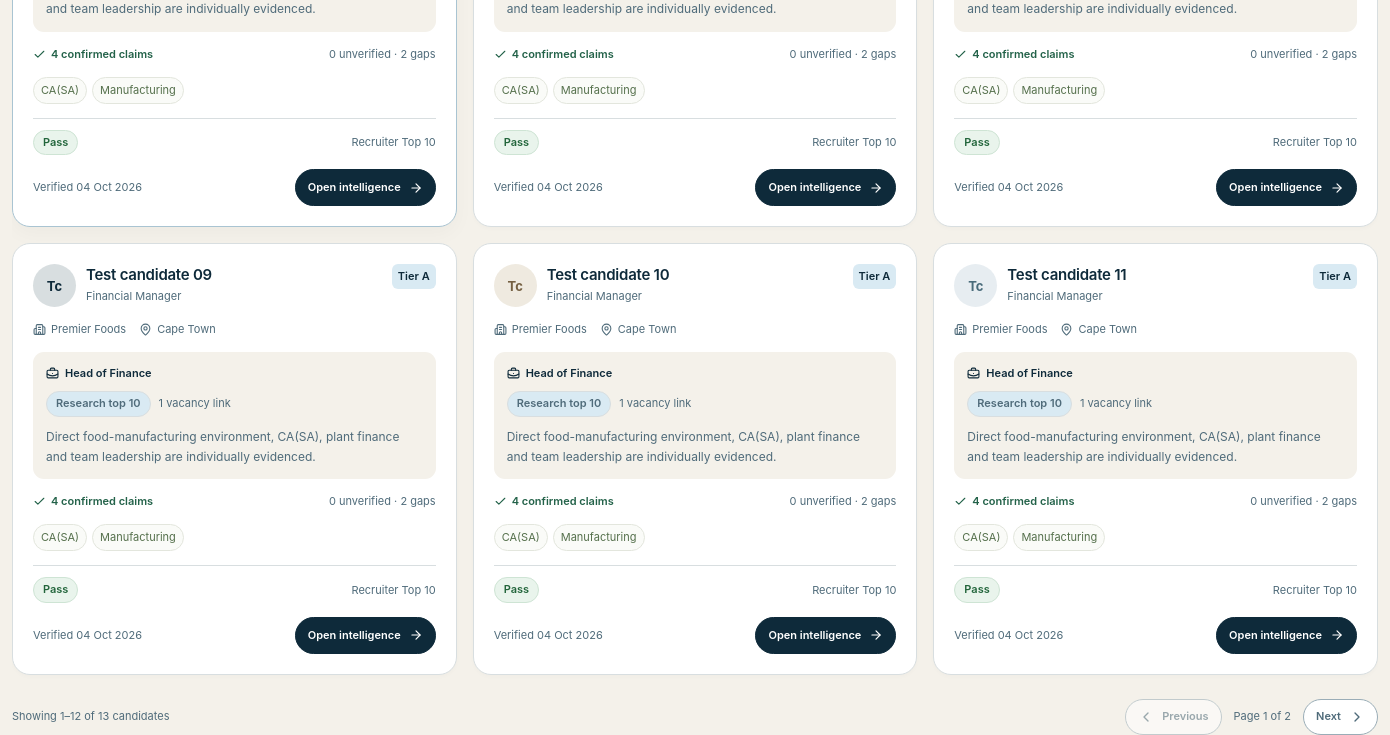
Test case: Candidate markets › paginates large markets and resets pagination after filtering
The image size is (1390, 735).
(page scrolled)
Click the button with aria-label "Next candidate page": (1340, 717) [1303,699,1378,734]
(page scrolled)
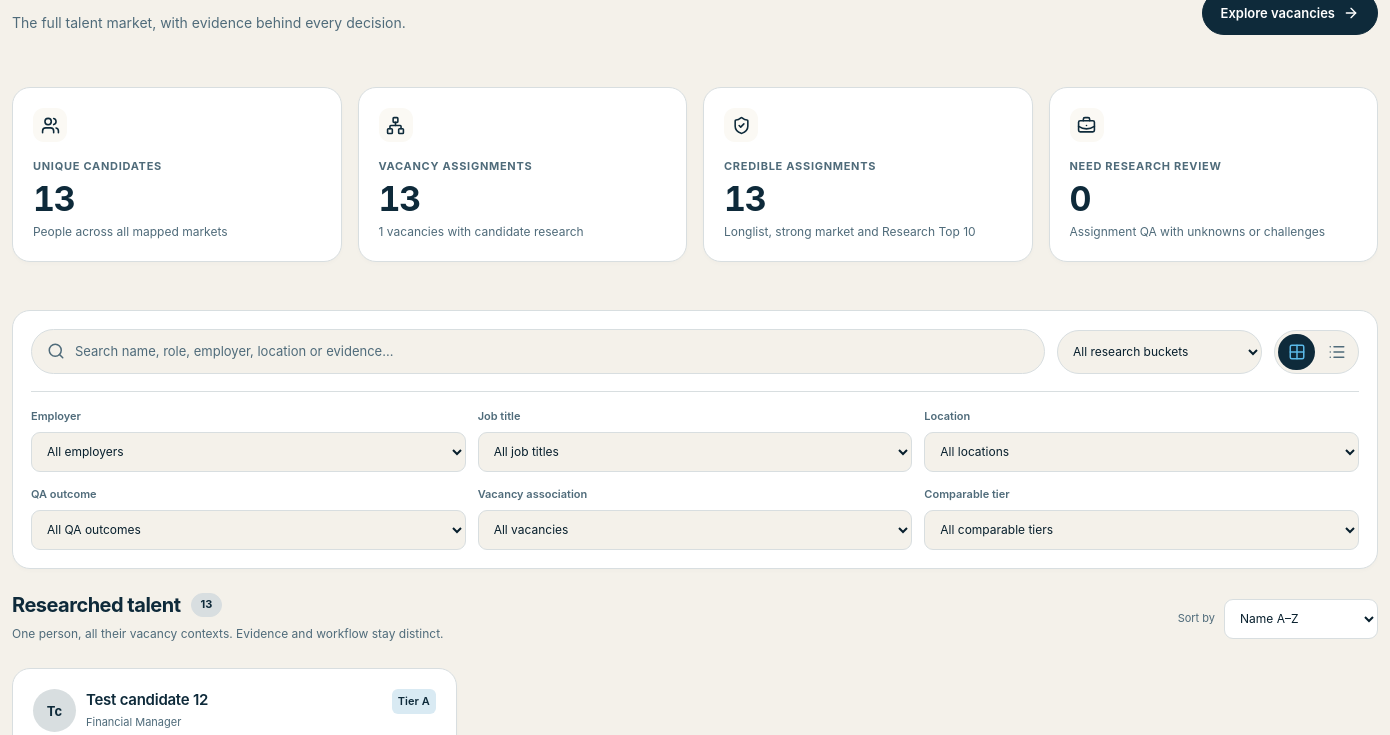
In the search field named "Search candidates": (552, 351) [75,330,1029,372], type "Test candidate 00"
(page scrolled)
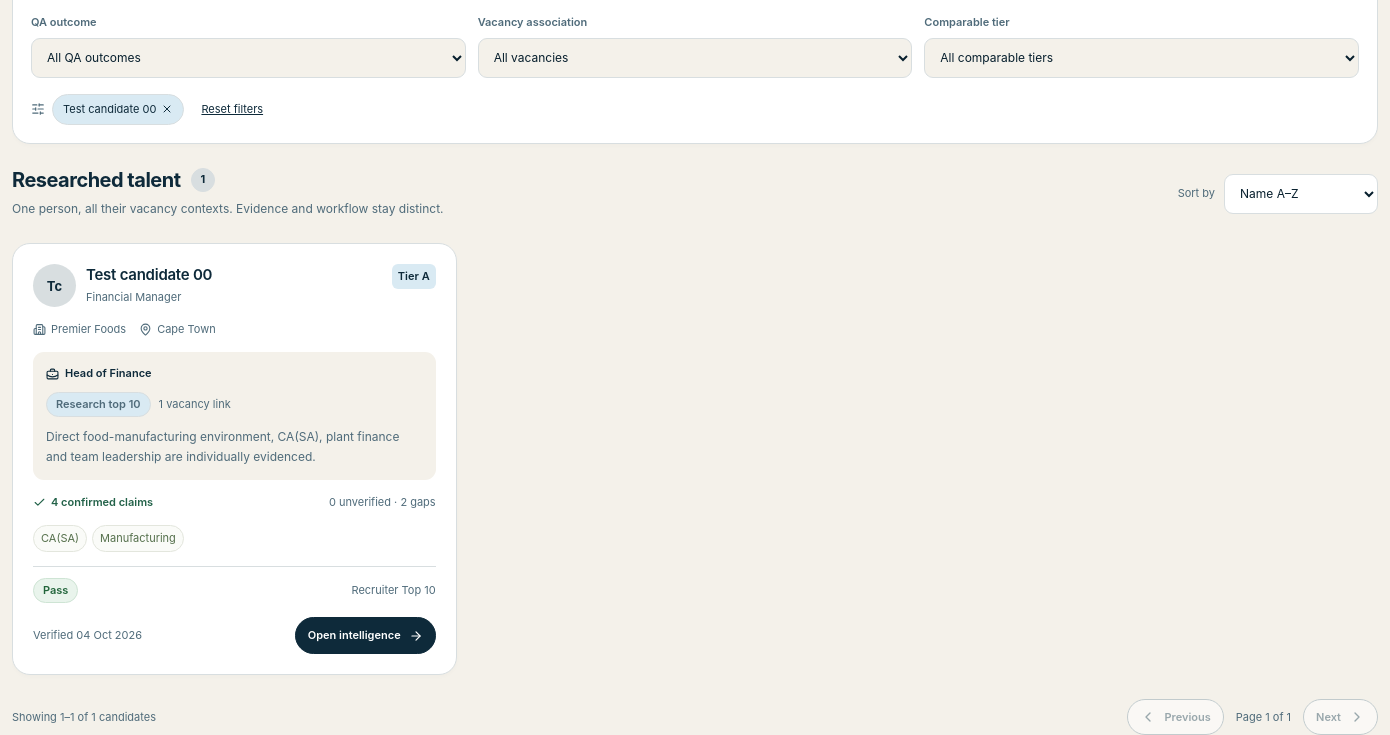
Check: the text "Page 1 of 1" is shown, box [1236,708,1291,726]
Check: the button with aria-label "Previous candidate page" is disabled, box [1127,699,1224,734]
